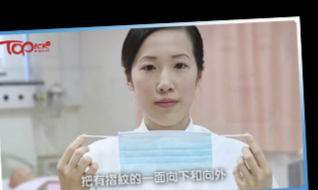without_mask: (130, 49, 199, 126)
